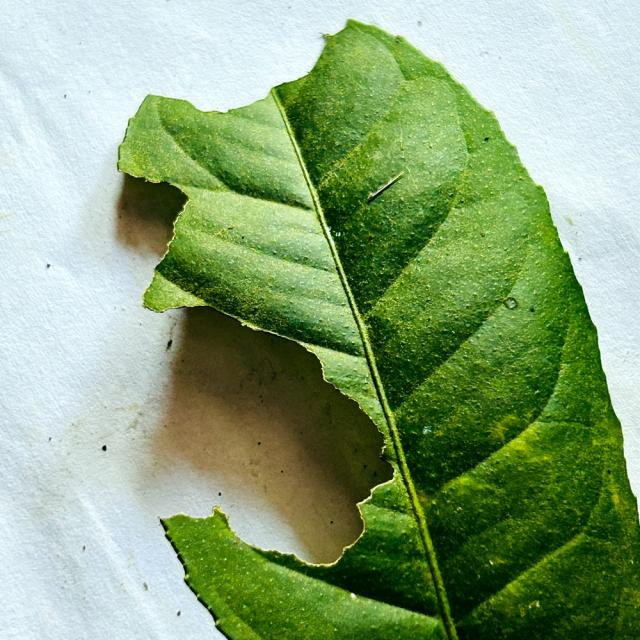Deficiency Leaf: (147, 308, 392, 562), (136, 20, 341, 102), (116, 173, 187, 270)
Lemon: (118, 20, 639, 639)
